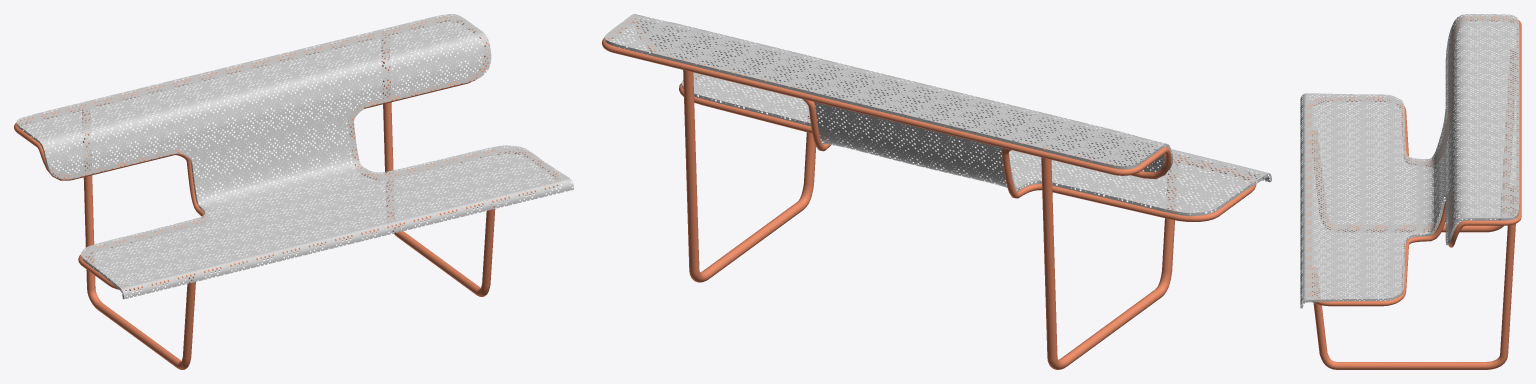
Rendered from Bank_Haeberli.glb.
3 views of the same model, side by side, from view 1: azimuth 30°, elevation 25°; view 2: azimuth 150°, elevation 25°; view 3: azimuth 270°, elevation 25° (orthographic). The views are drawn at different scales.
Parts seen in each view (by area): view 1: Sitzfläche, Beine, Rohr; view 2: Sitzfläche, Beine, Rohr; view 3: Sitzfläche, Beine, Rohr.
Boxes of the visible parts, x1,y1,x2,y2 form: Sitzfläche: (16,14,573,299); Beine: (82,32,495,369); Rohr: (14,16,560,290); Sitzfläche: (604,14,1271,216); Beine: (683,59,1178,369); Rohr: (602,18,1256,221); Sitzfläche: (1300,14,1519,308); Beine: (1312,50,1516,369); Rohr: (1307,16,1521,306).
Size of the model in its own units: 1.82 by 0.7589 by 0.8237.
Materials: 2 (1 with a texture image).
